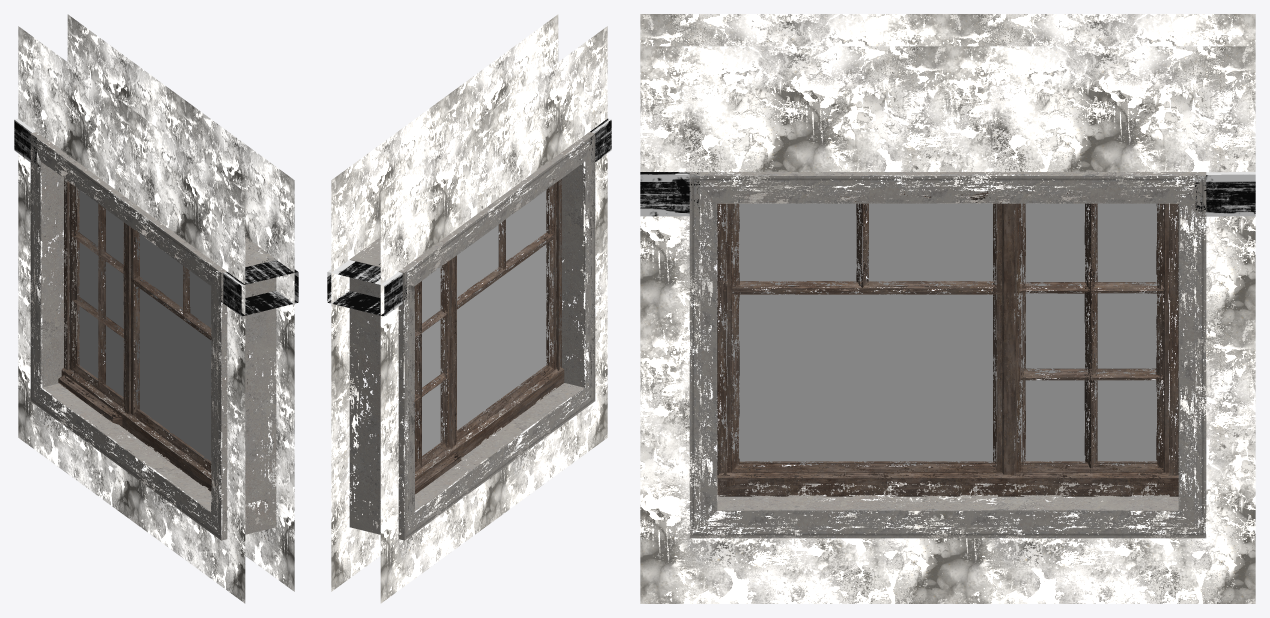
Rendered from SM_wall_A_window_4x4_07_02.fbx.
The picture shows the model from 3 angles, left to right: view 1: azimuth 30°, elevation 25°; view 2: azimuth 150°, elevation 25°; view 3: azimuth 270°, elevation 25°; orthographic projection. The views are drawn at different scales.
Visible parts, largest first — view 1: SM_wall_A_window_4x4_07_02_LOD0; view 2: SM_wall_A_window_4x4_07_02_LOD0; view 3: SM_wall_A_window_4x4_07_02_LOD0.
Boxes of the visible parts, <box> form: SM_wall_A_window_4x4_07_02_LOD0: <box>14,14,298,603</box>; SM_wall_A_window_4x4_07_02_LOD0: <box>327,14,611,603</box>; SM_wall_A_window_4x4_07_02_LOD0: <box>640,14,1255,603</box>.
Size of the model in its own units: 62.17 by 400 by 400.
6 materials, 5 textured.
